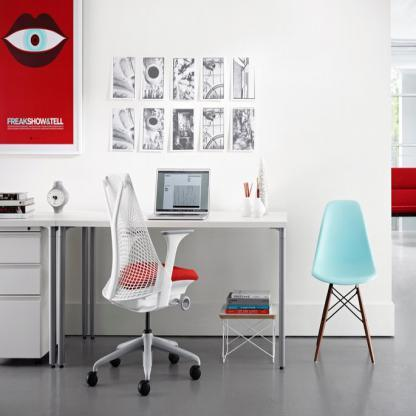chair: (67, 164, 221, 405), (307, 192, 386, 373)
clock: (45, 182, 67, 214)
table: (0, 207, 291, 367)
